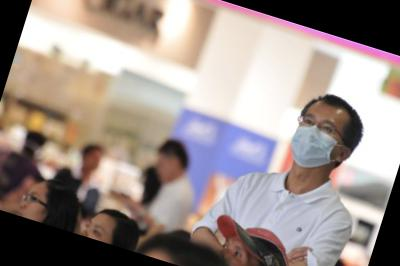with_mask: (285, 109, 350, 177)
without_mask: (15, 187, 54, 224), (81, 218, 115, 244)
